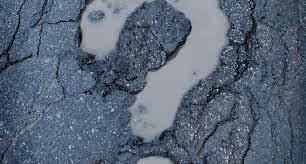alligator-crack: (203, 0, 304, 164), (1, 2, 77, 164)
pothole: (70, 0, 235, 139)
